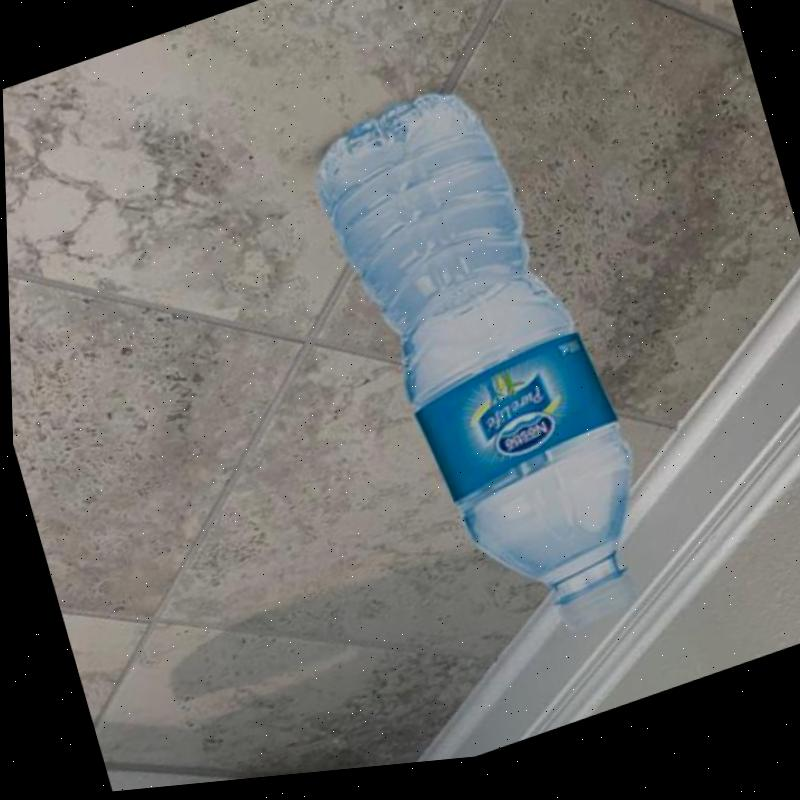botella: (297, 59, 672, 694)
